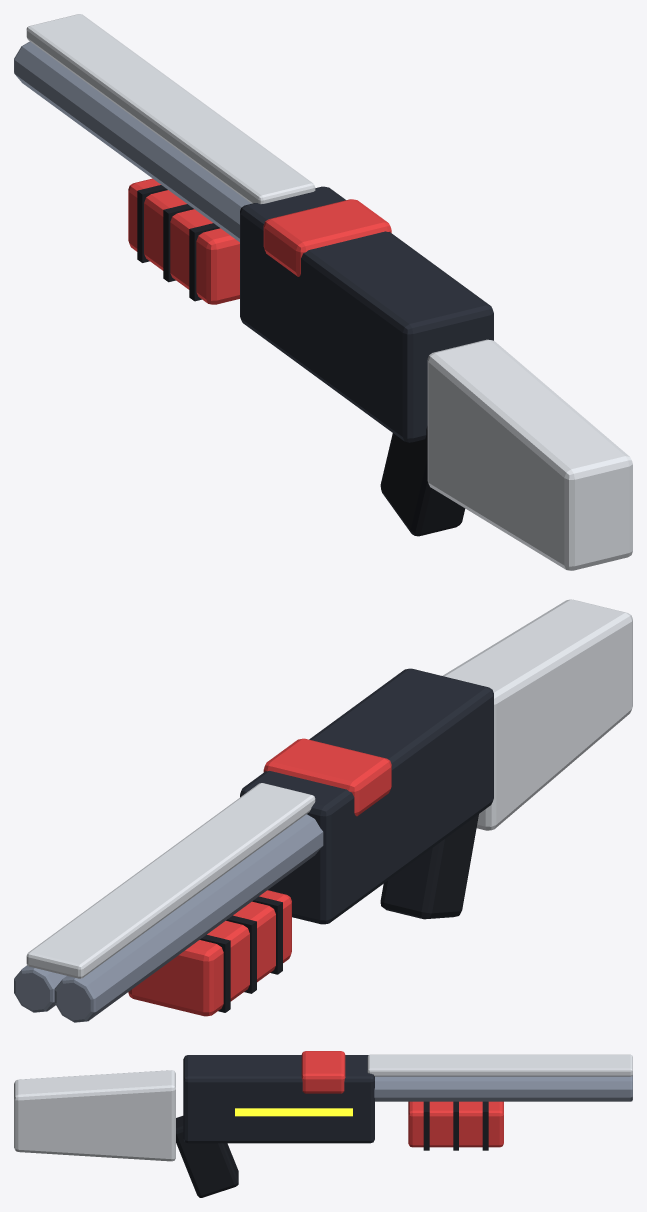
The model's file is shotgun.glb.
3 renders of one model, top to bottom at view 1: azimuth 30°, elevation 25°; view 2: azimuth 150°, elevation 25°; view 3: azimuth 270°, elevation 25°, orthographic. The views are drawn at different scales.
Parts seen in each view (by area): view 1: receiver, stock, rib, barrelL, pump, shell, grip, pumpRidge0, pumpRidge1; view 2: receiver, stock, rib, barrelL, pump, grip, shell, barrelR, pumpRidge2, pumpRidge1, pumpRidge0; view 3: receiver, stock, barrelR, rib, pump, grip, shell, strip, pumpRidge0, pumpRidge2, pumpRidge1.
Boxes of the visible parts, bbox=[...] form: receiver: bbox=[240, 186, 493, 442]; stock: bbox=[427, 339, 632, 570]; rib: bbox=[26, 14, 315, 203]; barrelL: bbox=[14, 41, 251, 241]; pump: bbox=[128, 178, 239, 304]; shell: bbox=[263, 199, 391, 276]; grip: bbox=[380, 426, 465, 536]; pumpRidge0: bbox=[189, 223, 219, 301]; pumpRidge1: bbox=[163, 204, 193, 282]; receiver: bbox=[240, 668, 493, 924]; stock: bbox=[442, 599, 632, 830]; rib: bbox=[26, 783, 315, 978]; barrelL: bbox=[54, 814, 323, 1022]; pump: bbox=[128, 890, 291, 1016]; grip: bbox=[380, 814, 478, 919]; shell: bbox=[263, 738, 391, 816]; barrelR: bbox=[14, 965, 66, 1012]; pumpRidge2: bbox=[200, 934, 230, 1012]; pumpRidge1: bbox=[226, 915, 256, 993]; pumpRidge0: bbox=[252, 896, 282, 974]; receiver: bbox=[183, 1055, 374, 1143]; stock: bbox=[14, 1070, 175, 1161]; barrelR: bbox=[374, 1076, 632, 1101]; rib: bbox=[367, 1054, 632, 1076]; pump: bbox=[408, 1101, 503, 1147]; grip: bbox=[176, 1116, 238, 1197]; shell: bbox=[301, 1051, 345, 1093]; strip: bbox=[235, 1108, 352, 1116]; pumpRidge0: bbox=[423, 1101, 429, 1150]; pumpRidge2: bbox=[482, 1101, 488, 1150]; pumpRidge1: bbox=[453, 1101, 458, 1150].
Size of the model in its own units: 0.0865 by 0.1959 by 0.84.
